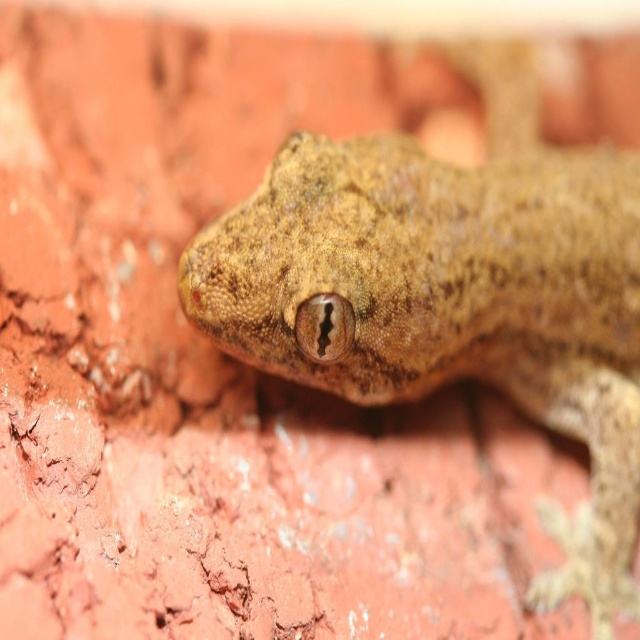Lizard: (177, 38, 640, 638)
